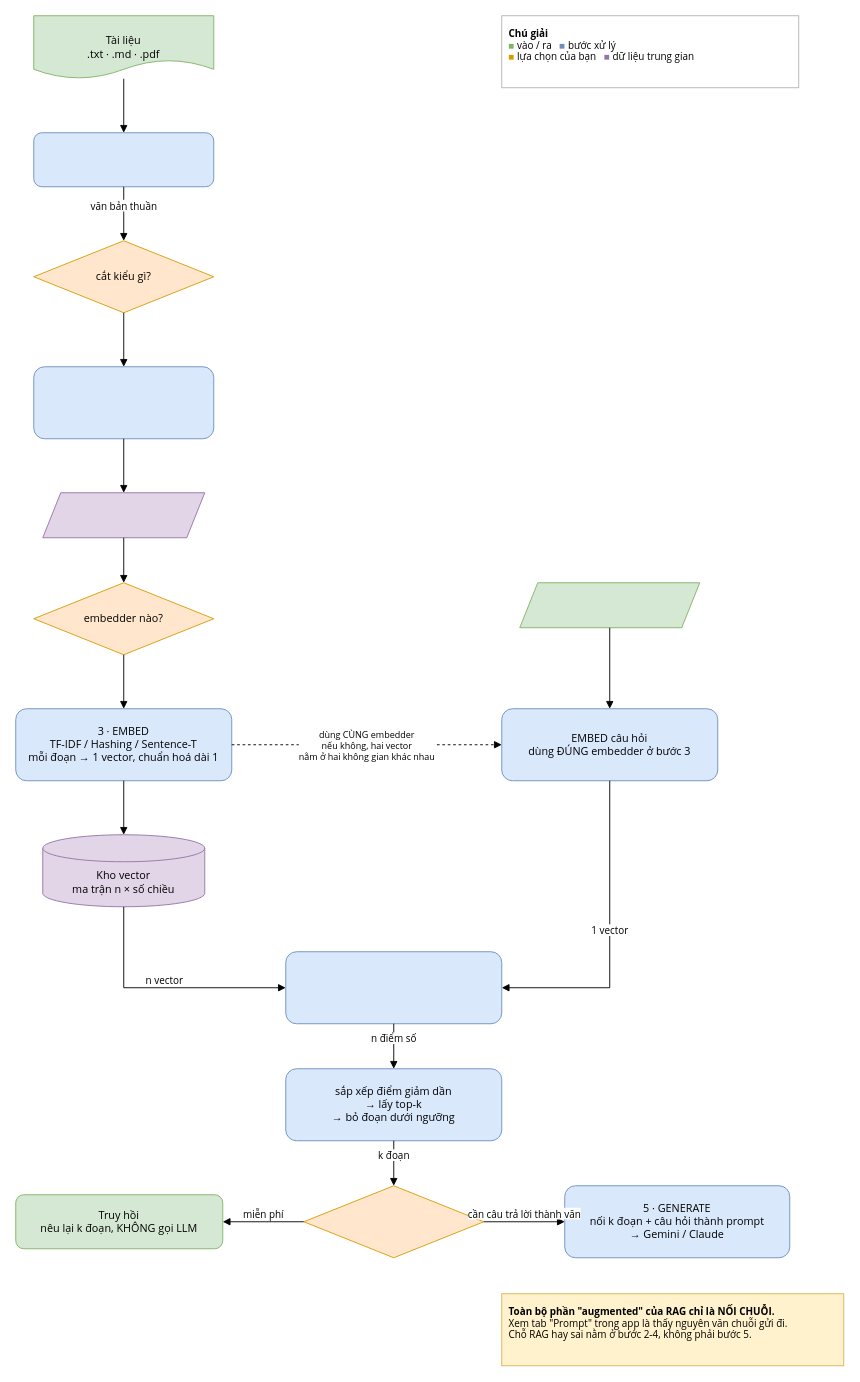
Some shapes in this 860 by 1382 pixel diagram are drawn without their labels. The shapes that lost their labels are listed below. From the top down, each one's centre as x and y in pixels, then its label:
At [123,159]: "1 · LOAD đọc ra văn bản thuần".
At [123,402]: "2 · CHUNK theo đoạn / theo câu / cố định + chồng lấn, gộp chunk ngắn".
At [123,515]: "n đoạn nhỏ".
At [609,605]: "Câu hỏi của bạn".
At [393,987]: "4 · RETRIEVE cosine giữa vector câu hỏi và TỪNG vector trong kho".
At [393,1221]: "chế độ nào?".
